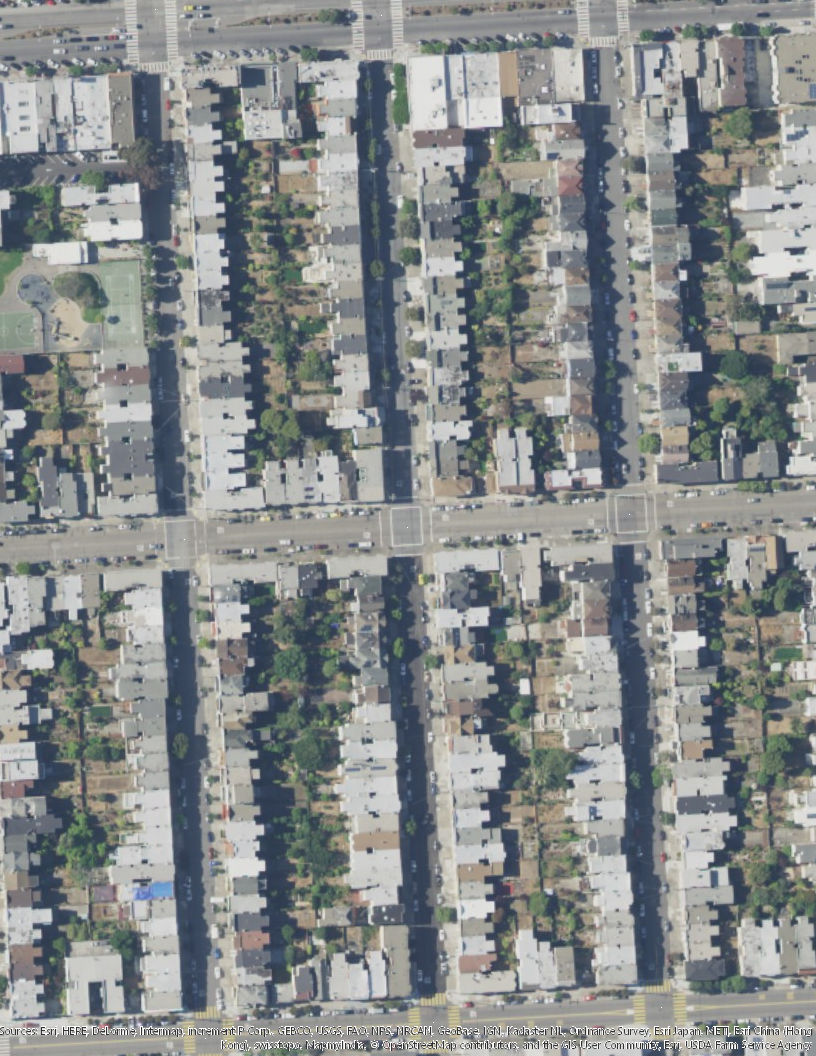zebracross: (123, 1, 140, 65), (163, 1, 180, 61), (349, 1, 367, 50), (388, 1, 404, 48), (575, 1, 594, 37), (613, 1, 633, 35), (419, 990, 448, 1007), (182, 1018, 196, 1053), (362, 47, 394, 62), (221, 1018, 236, 1050), (139, 61, 170, 75), (632, 993, 646, 1024), (674, 992, 687, 1024), (445, 1004, 463, 1027), (194, 1005, 223, 1019), (646, 979, 675, 992), (407, 1007, 421, 1028), (592, 36, 617, 47)
